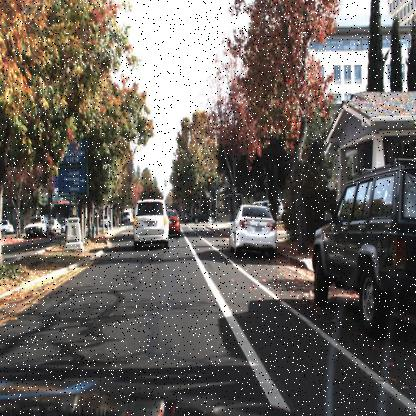car: (306, 152, 416, 337), (227, 200, 281, 256), (132, 197, 170, 250), (21, 213, 50, 241), (167, 205, 183, 241), (190, 209, 219, 225), (48, 214, 62, 239), (44, 218, 62, 236), (0, 218, 16, 237)
trafficLight-Red: (206, 173, 213, 196), (175, 168, 182, 185), (188, 185, 193, 205), (206, 175, 212, 191), (176, 171, 181, 184), (187, 188, 192, 201)
trafficLight-RedLeft: (147, 186, 156, 198), (148, 186, 153, 198)
